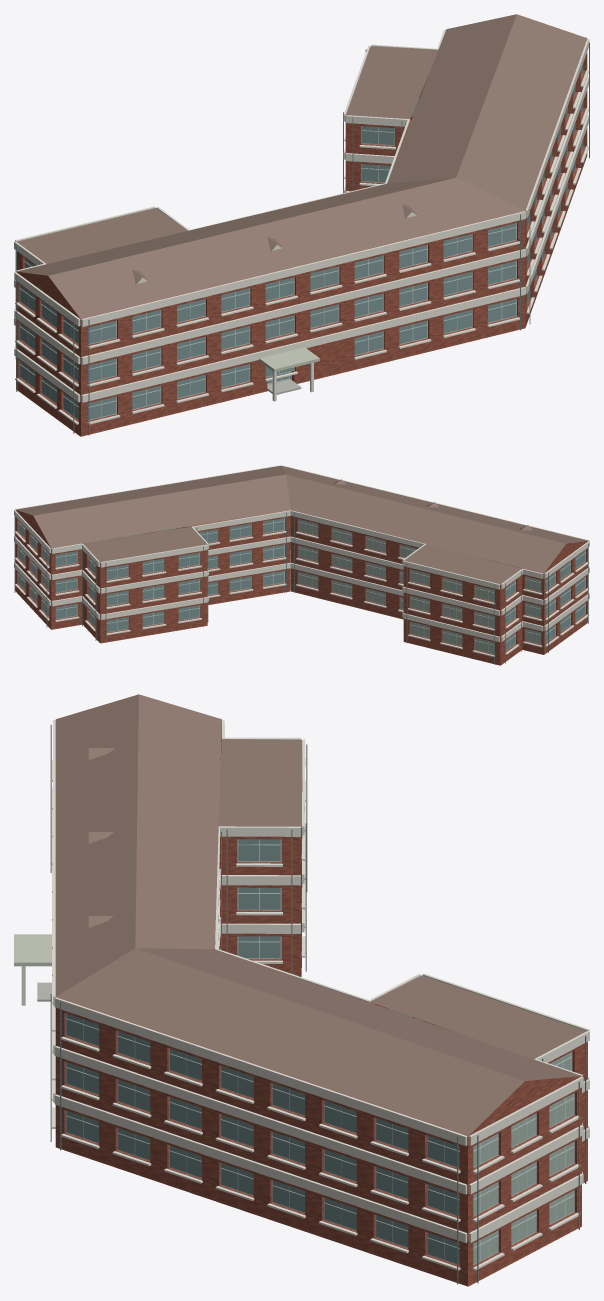
The picture shows the model from 3 angles, top to bottom: view 1: azimuth 30°, elevation 25°; view 2: azimuth 150°, elevation 25°; view 3: azimuth 270°, elevation 25°; orthographic projection. The views are drawn at different scales.
Visible parts, largest first — view 1: middle__brownroof, middle__brick, middle__trim, middle__glass, middle__frame, middle__metal, middle__entry; view 2: middle__brownroof, middle__brick, middle__trim, middle__glass, middle__sideglass, middle__frame, middle__metal; view 3: middle__brownroof, middle__brick, middle__trim, middle__glass, middle__frame, middle__sideglass, middle__metal, middle__entry.
Boxes of the visible parts, bbox=[...] form: middle__brownroof: bbox=[16, 14, 587, 318]; middle__brick: bbox=[15, 40, 587, 436]; middle__trim: bbox=[14, 28, 589, 424]; middle__glass: bbox=[20, 63, 583, 419]; middle__frame: bbox=[19, 69, 583, 420]; middle__metal: bbox=[16, 42, 589, 435]; middle__entry: bbox=[258, 347, 319, 371]; middle__brownroof: bbox=[16, 465, 587, 584]; middle__brick: bbox=[15, 510, 587, 665]; middle__trim: bbox=[14, 465, 589, 656]; middle__glass: bbox=[55, 510, 585, 650]; middle__sideglass: bbox=[18, 519, 541, 653]; middle__frame: bbox=[18, 518, 585, 654]; middle__metal: bbox=[14, 512, 588, 664]; middle__brownroof: bbox=[55, 694, 586, 1135]; middle__brick: bbox=[55, 724, 587, 1286]; middle__trim: bbox=[21, 718, 589, 1270]; middle__glass: bbox=[66, 839, 459, 1264]; middle__frame: bbox=[66, 839, 574, 1265]; middle__sideglass: bbox=[473, 1052, 573, 1264]; middle__metal: bbox=[50, 724, 586, 1284]; middle__entry: bbox=[14, 934, 51, 966].
Size of the model in its own units: 64.91 by 12.66 by 37.65.
11 materials, 1 textured.
